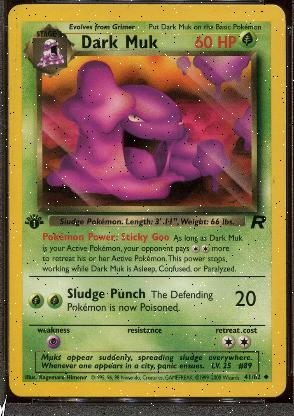Card: (5, 1, 287, 400)
